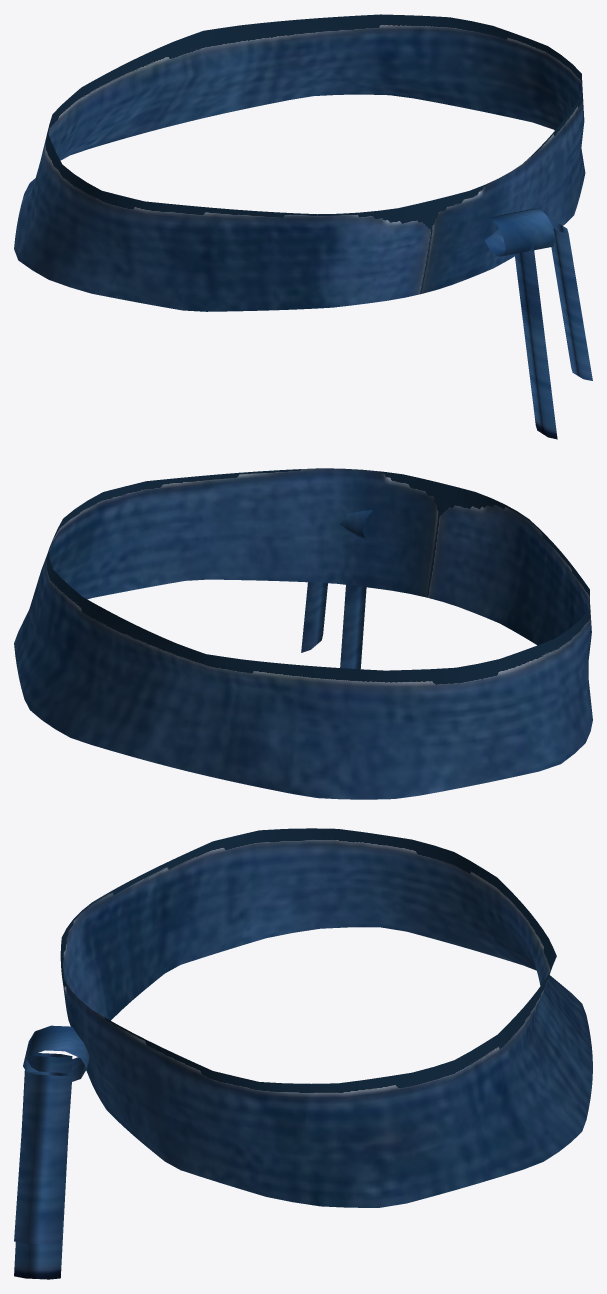
Rendered from obi.glb.
3 views of the same model, one above another, from view 1: azimuth 30°, elevation 25°; view 2: azimuth 150°, elevation 25°; view 3: azimuth 270°, elevation 25° (orthographic). The views are drawn at different scales.
Parts seen in each view (by area): view 1: Spine, Hips; view 2: Spine, Hips; view 3: Spine, Hips.
Part boxes in pixels (<box>): Spine: <box>14,14,585,311</box>; Hips: <box>514,221,592,439</box>; Spine: <box>14,468,592,799</box>; Hips: <box>301,582,366,669</box>; Spine: <box>23,828,592,1207</box>; Hips: <box>14,1053,72,1279</box>.
Bounding box in the file's own units: 0.4538 × 0.2028 × 0.3954.
Materials: 1 (1 with a texture image).
